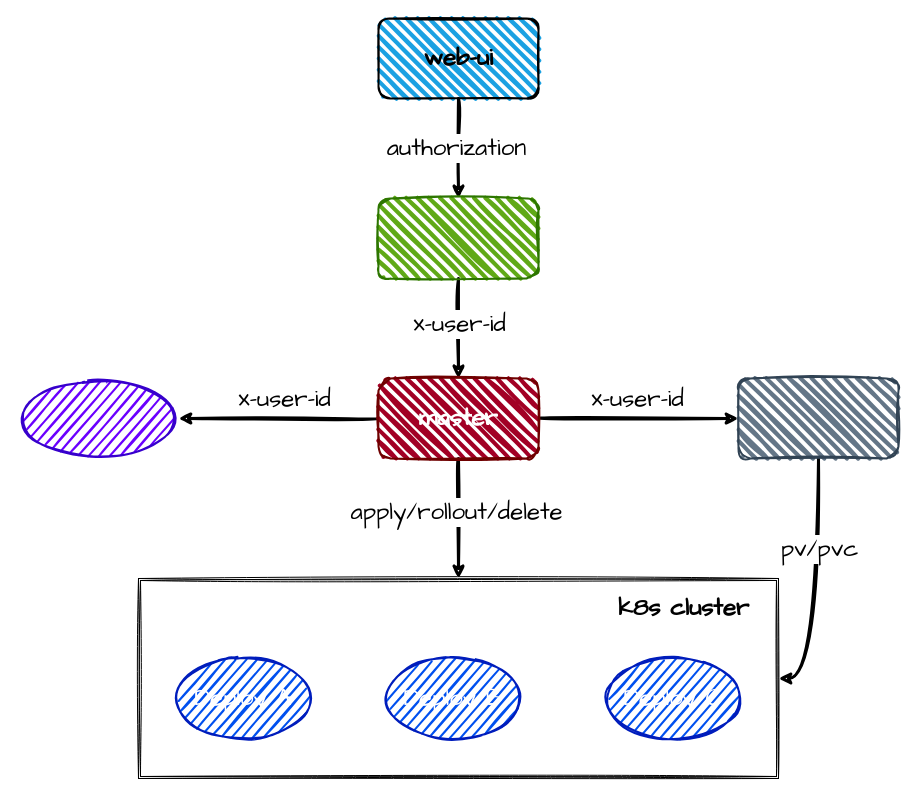
This 916x796 diagram has some shape labels left out. Each missing label, with the centre of its shape:
gateway: pixel 458 238
NAS: pixel 818 418
Redis: pixel 98 418
